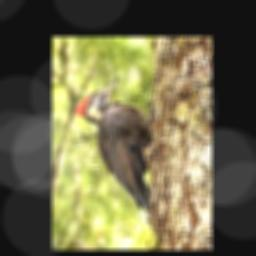Woodpecker: (76, 76, 153, 213)
